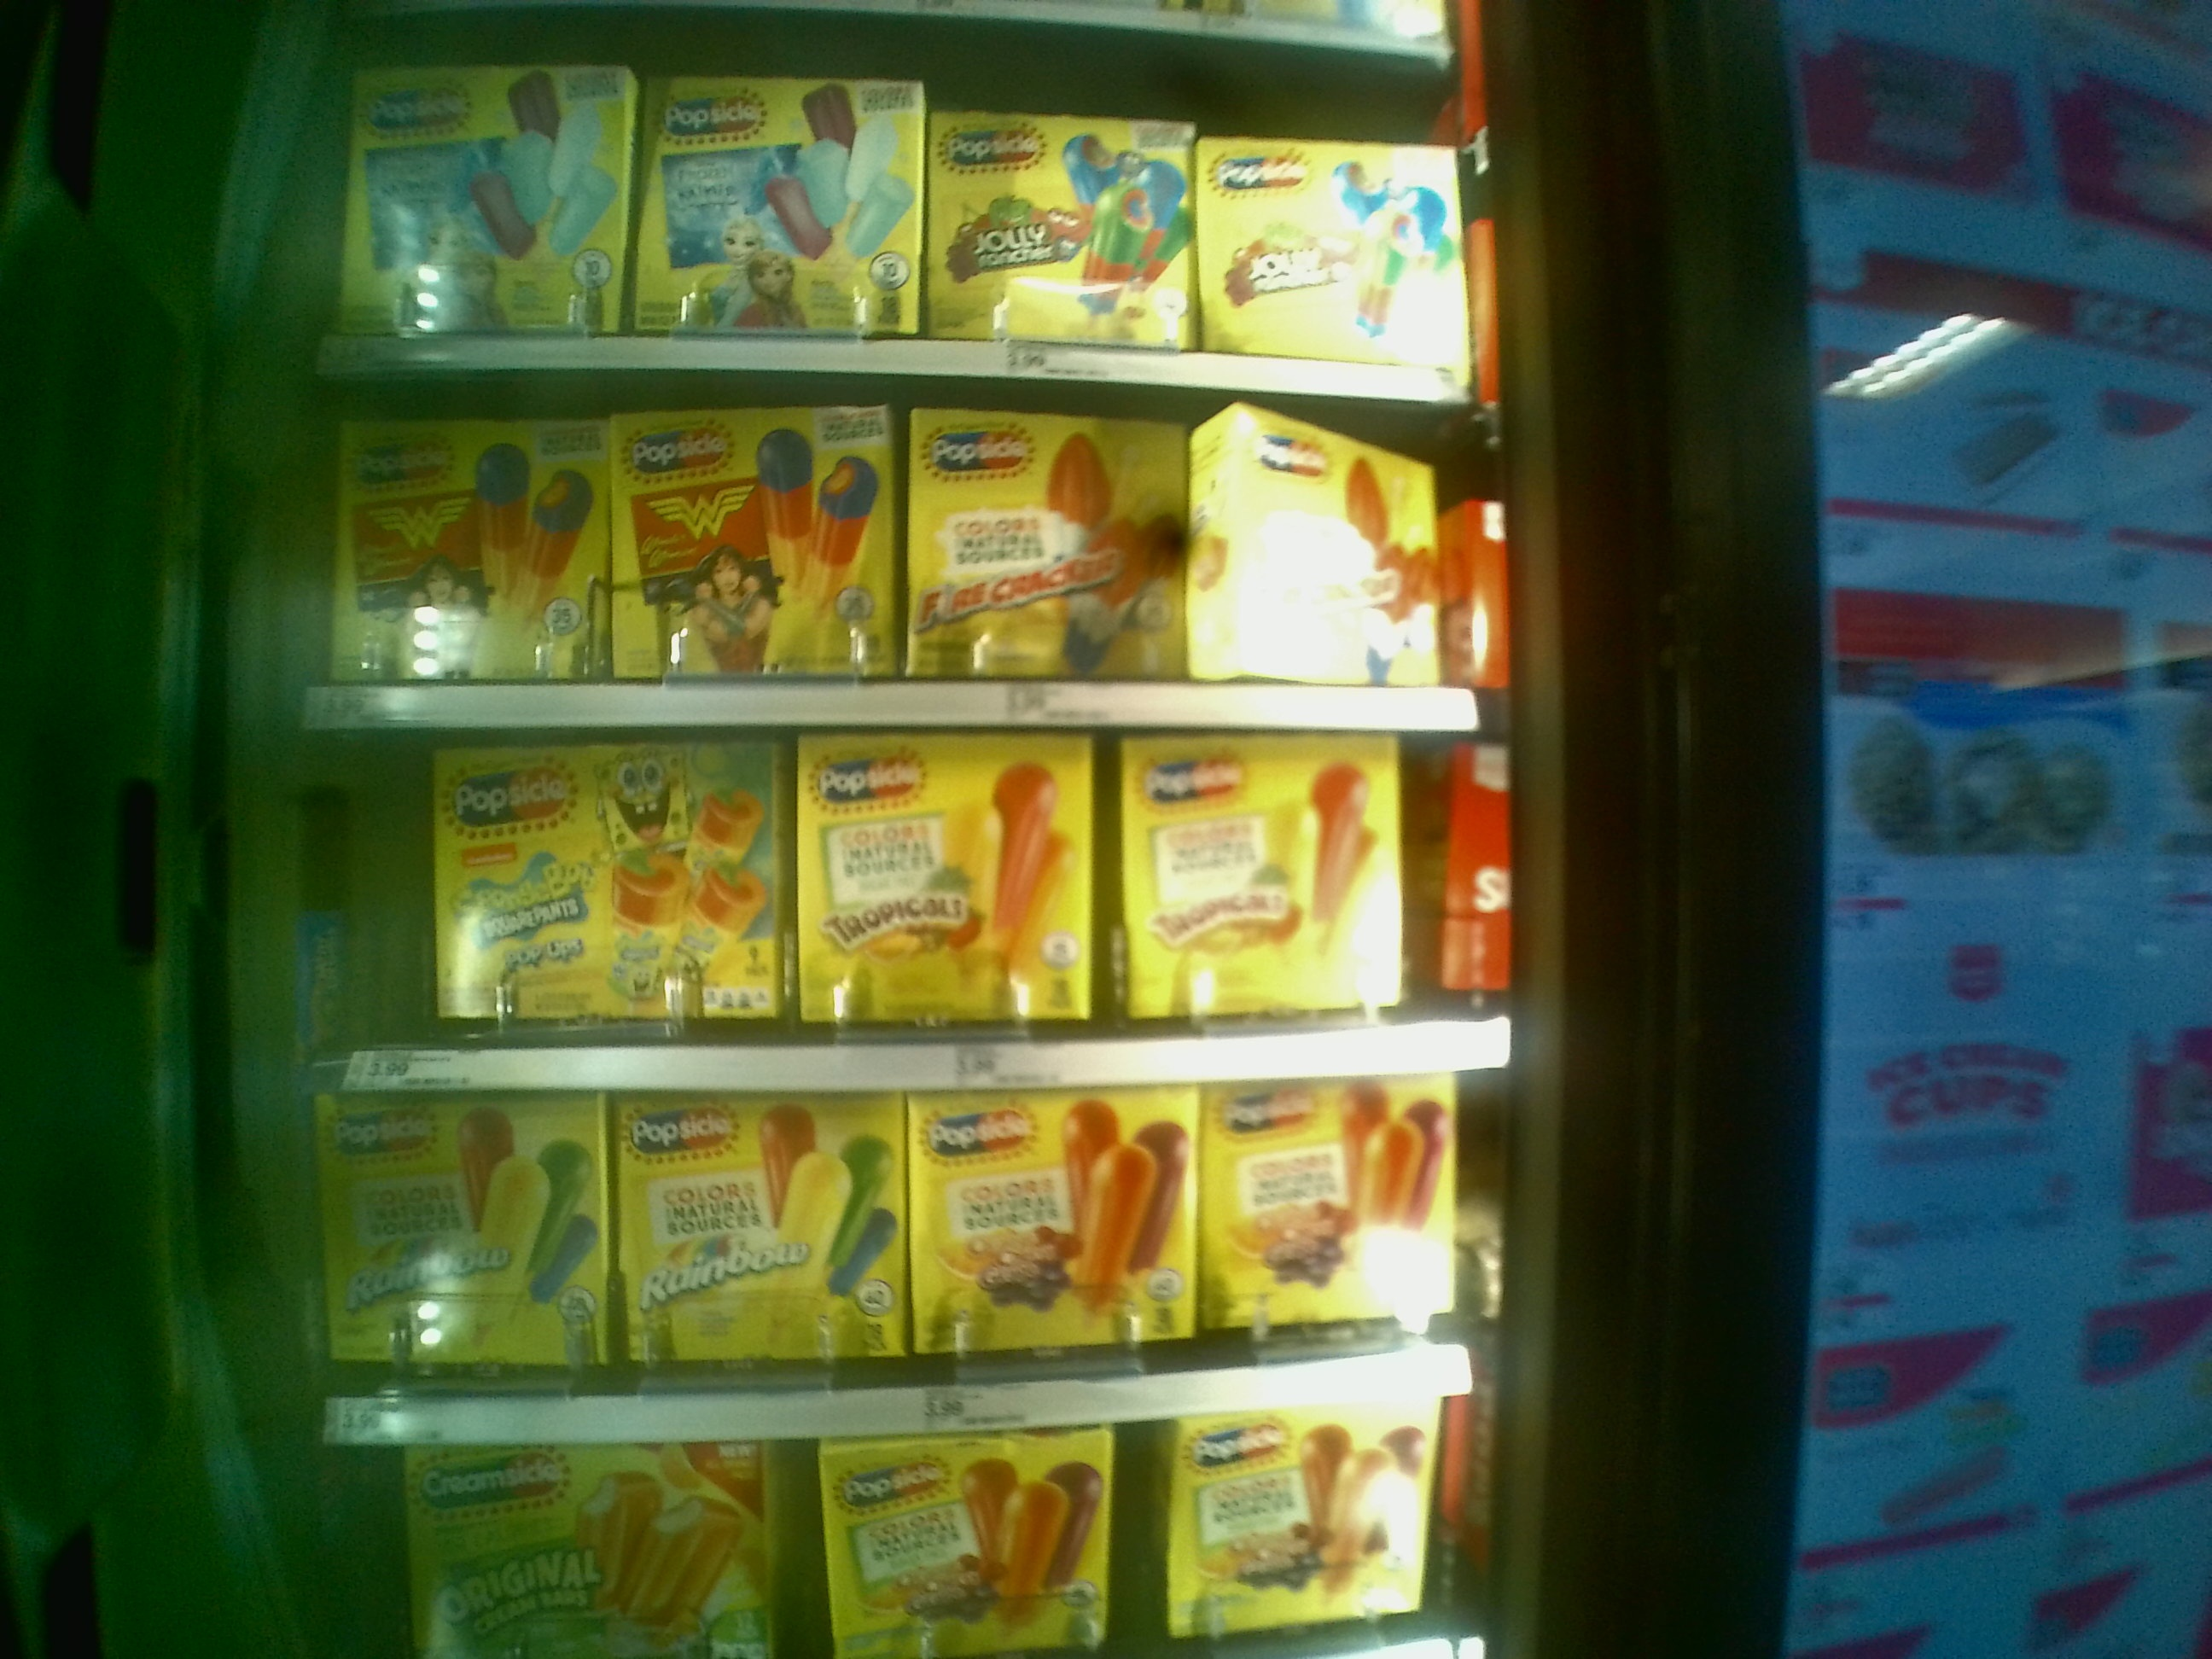shelf: (298, 711, 1508, 1084), (284, 362, 1514, 723), (329, 1058, 1505, 1434)
